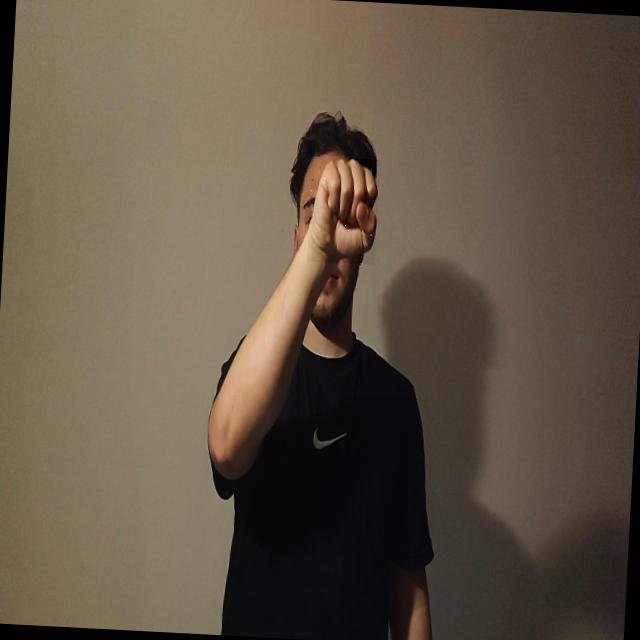yes: (307, 157, 380, 266)
